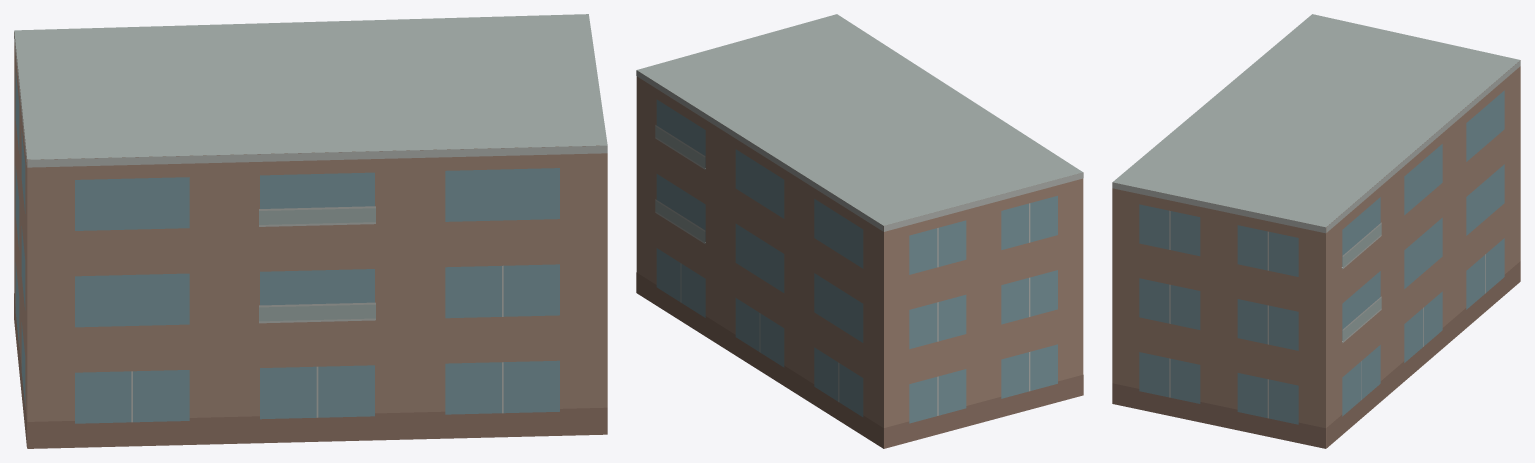
Rendered from survey-upis-32890944.glb.
3 renders of one model, left to right at view 1: azimuth 30°, elevation 25°; view 2: azimuth 150°, elevation 25°; view 3: azimuth 270°, elevation 25°, orthographic. The views are drawn at different scales.
Visible parts, largest first — view 1: survey-upis-32890944.tmp; view 2: survey-upis-32890944.tmp; view 3: survey-upis-32890944.tmp.
Part boxes in pixels (x1=…): survey-upis-32890944.tmp: x1=14, y1=14, x2=607, y2=448; survey-upis-32890944.tmp: x1=636, y1=14, x2=1083, y2=448; survey-upis-32890944.tmp: x1=1112, y1=14, x2=1520, y2=448.
Size of the model in its own units: 18.6 by 9 by 15.04.
